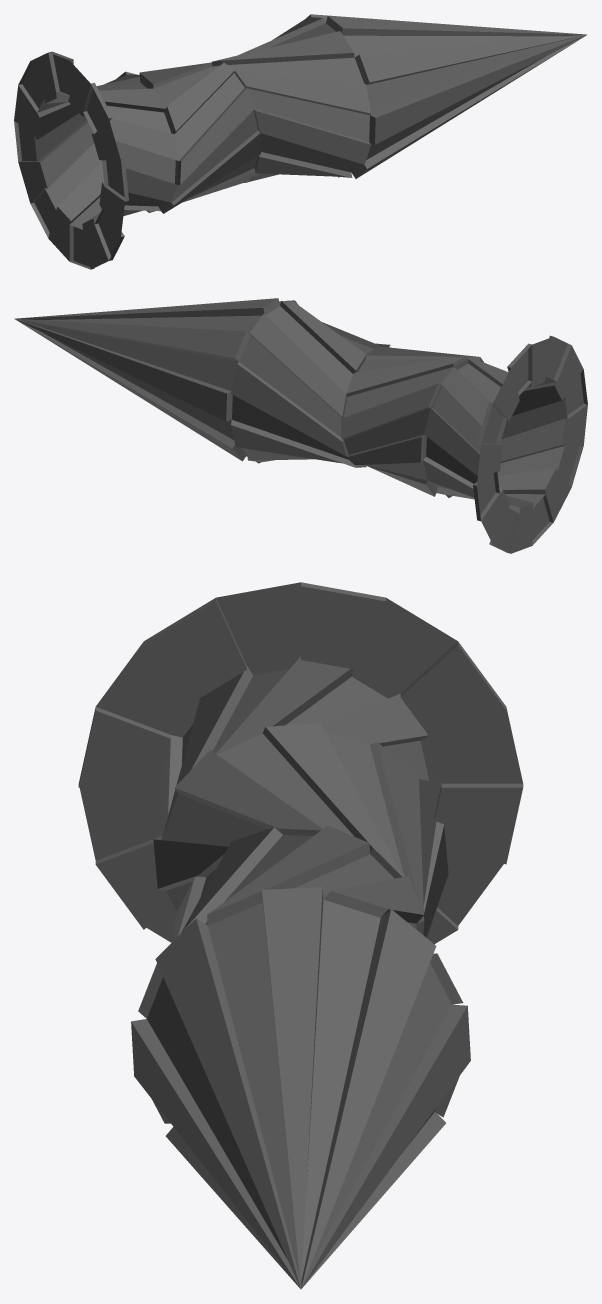
Rendered from tirespikefinal.fbx.
The picture shows the model from 3 angles, top to bottom: view 1: azimuth 30°, elevation 25°; view 2: azimuth 150°, elevation 25°; view 3: azimuth 270°, elevation 25°; orthographic projection. The views are drawn at different scales.
Visible parts, largest first — view 1: Circle.001; view 2: Circle.001; view 3: Circle.001.
Boxes of the visible parts, x1,y1,x2,y2 form: Circle.001: (14, 14, 587, 269); Circle.001: (14, 298, 587, 553); Circle.001: (78, 582, 523, 1289).
Size of the model in its own units: 70.69 by 26.25 by 26.25.
Materials: 1 (1 with a texture image).
